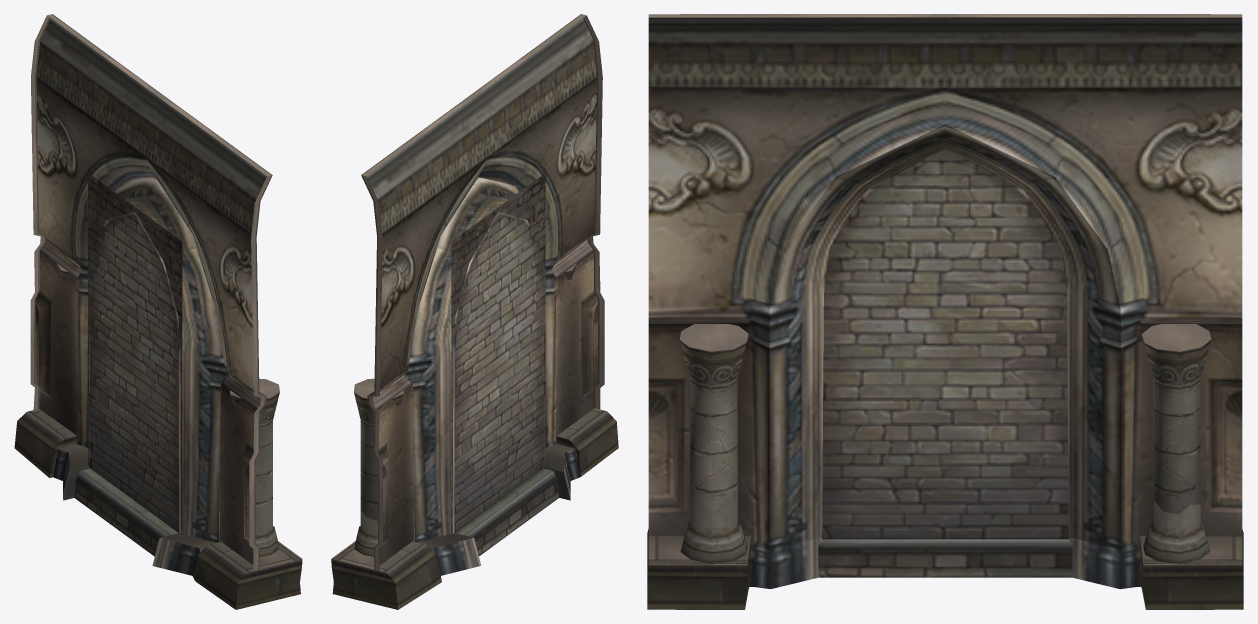
3 views of the same model, side by side, from view 1: azimuth 30°, elevation 25°; view 2: azimuth 150°, elevation 25°; view 3: azimuth 270°, elevation 25° (orthographic). The views are drawn at different scales.
Visible parts, largest first — view 1: DN_1_4_dt02c_a, Object021; view 2: DN_1_4_dt02c_a, Object021; view 3: DN_1_4_dt02c_a, Object021.
Part boxes in pixels (<box>): DN_1_4_dt02c_a: <box>30,14,279,570</box>; Object021: <box>14,409,302,609</box>; DN_1_4_dt02c_a: <box>354,14,604,570</box>; Object021: <box>331,408,618,609</box>; DN_1_4_dt02c_a: <box>648,14,1242,563</box>; Object021: <box>647,498,1243,609</box>.
Size of the model in its own units: 443 by 2122 by 1998.
